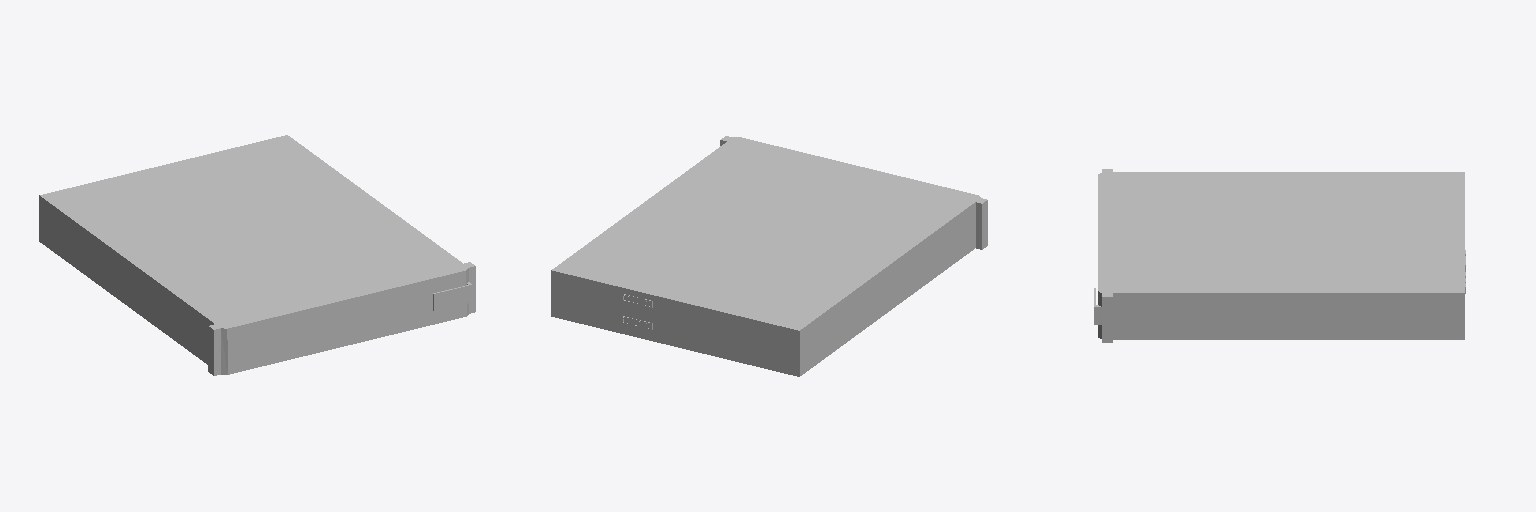
3 renders of one model, left to right at view 1: azimuth 30°, elevation 25°; view 2: azimuth 150°, elevation 25°; view 3: azimuth 270°, elevation 25°, orthographic.
Visible parts, largest first — view 1: pCube125_E6_7, E6_7_pCube130; view 2: pCube125_E6_7; view 3: pCube125_E6_7.
Part boxes in pixels (bbox=[...]): pCube125_E6_7: bbox=[39, 135, 475, 375]; E6_7_pCube130: bbox=[433, 282, 472, 311]; pCube125_E6_7: bbox=[551, 136, 987, 376]; pCube125_E6_7: bbox=[1098, 169, 1464, 342].
Bounding box in the file's own units: 52.74 × 8.91 × 64.96.